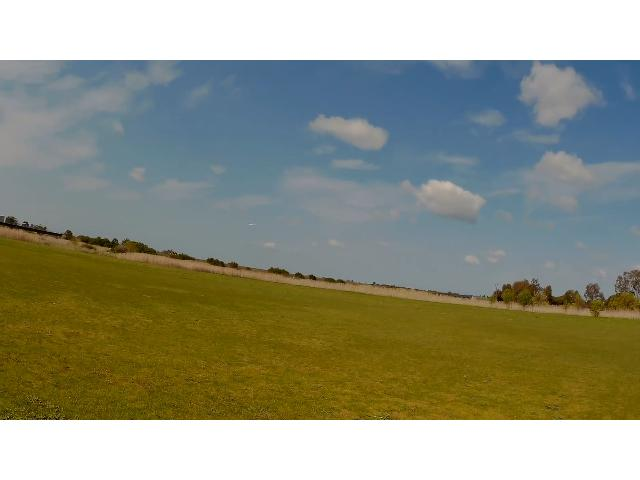Anti-Drone: (239, 215, 263, 233)
